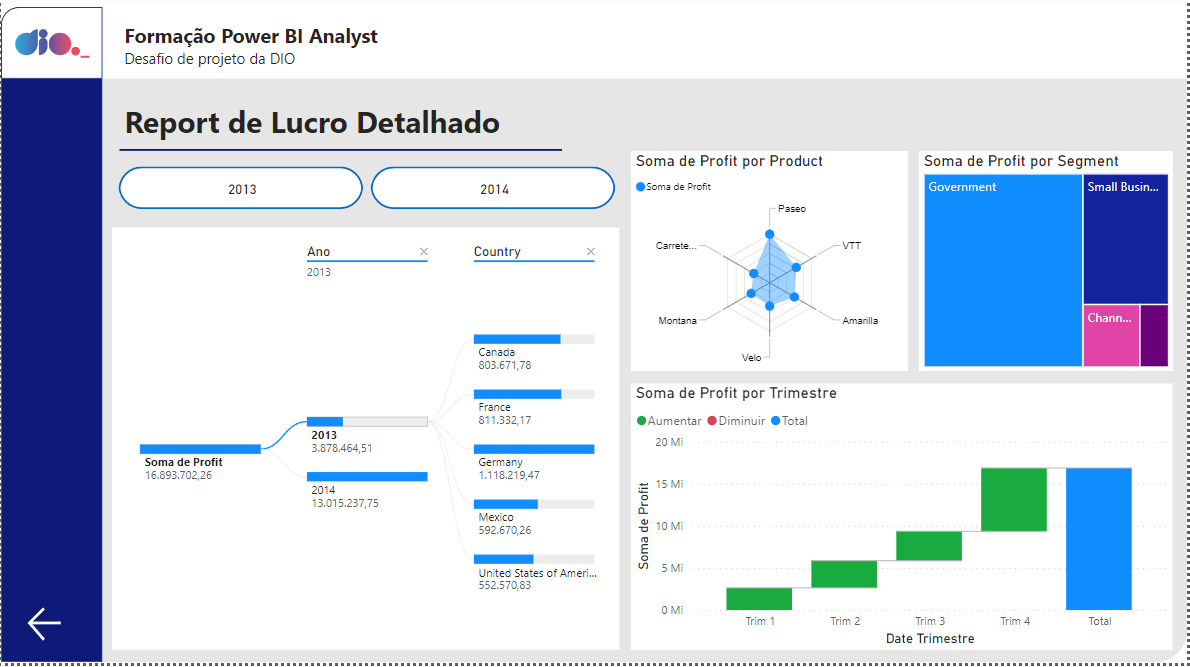

This screenshot's page, from the dashboard's own definition file:
{"tool":"powerbi","page":{"name":"Página 2","canvas":[1280,720],"ordinal":1},"visuals":[{"type":"shape","box":[128,13.1,477.5,308.4],"z":0,"group":"g1"},{"type":"shape","box":[0,12.9,1279.8,707.1],"z":0},{"type":"shape","box":[0,13.2,109.6,706.8],"z":1000},{"type":"textbox","box":[128.6,109,1102,59.5],"z":1000,"group":"g1"},{"type":"shape","box":[0,13.2,109.6,77.5],"z":2000},{"type":"image","title":"Logo_Dio","box":[9.4,5.7,90.7,90.7],"z":3000},{"type":"shape","box":[109.6,13.2,1169.8,77.5],"z":4000},{"type":"textbox","box":[127.8,22.7,1152,68],"z":5000},{"type":"group","id":"g1","title":"Title Report","box":[128,13.1,1102.5,308.4],"z":6000},{"type":"treemap","fields":{"Values":["Sum(financials.Profit)"],"Group":["financials.Segment"]},"box":[989.7,168.2,273.8,237.5],"z":7000},{"type":"RadarChart1446119667547","fields":{"Y":["Sum(financials.Profit)"],"Category":["financials.Product"]},"box":[679.6,168.2,298.6,237.5],"z":8000},{"type":"waterfallChart","fields":{"Y":["Sum(financials.Profit)"],"Category":["financials.Date.Variation.Hierarquia de datas.Trimestre"]},"box":[679.6,419,583.9,287],"z":9000},{"type":"decompositionTreeVisual","fields":{"Analyze":["Sum(financials.Profit)"],"ExplainBy":["financials.Date.Variation.Hierarquia de datas.Ano","financials.Country"]},"box":[120.4,250.7,547.6,455.3],"z":10000},{"type":"advancedSlicerVisual","fields":{"Values":["financials.Date.Variation.Hierarquia de datas.Ano"]},"box":[120.7,180.4,546.9,56.7],"z":11000},{"type":"actionButton","box":[24.7,656,64,46.5],"z":12000}]}

Visuals, with their boxes in screenshot pixels (x1, y1, x2, y2), scaled from the page's 1280x720 canvas onto the 1190x667 screenshot:
shape: (119, 12, 563, 298)
shape: (0, 12, 1189, 666)
shape: (0, 12, 102, 666)
textbox: (120, 101, 1144, 156)
shape: (0, 12, 102, 84)
"Logo_Dio" image: (9, 5, 93, 89)
shape: (102, 12, 1189, 84)
textbox: (119, 21, 1189, 84)
"Title Report" group: (119, 12, 1144, 298)
treemap - Sum(financials.Profit) x financials.Segment: (920, 156, 1175, 376)
RadarChart1446119667547 - Sum(financials.Profit) x financials.Product: (632, 156, 909, 376)
waterfallChart - Sum(financials.Profit) x financials.Date.Variation.Hierarquia de datas.Trimestre: (632, 388, 1175, 654)
decompositionTreeVisual - Sum(financials.Profit) x financials.Date.Variation.Hierarquia de datas.Ano: (112, 232, 621, 654)
advancedSlicerVisual - financials.Date.Variation.Hierarquia de datas.Ano: (112, 167, 621, 220)
actionButton: (23, 608, 82, 651)
